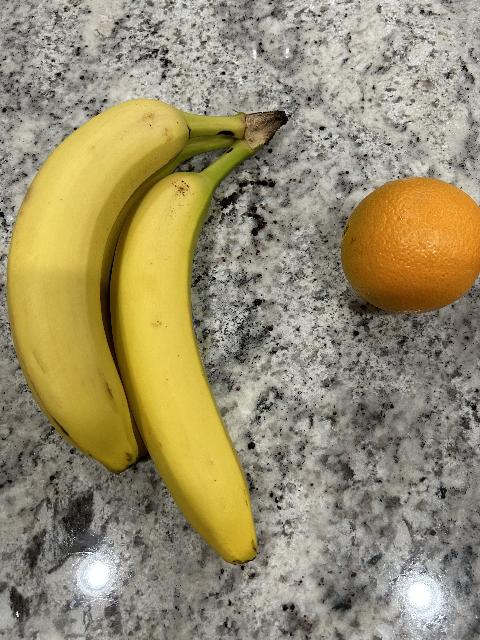Bananas: (6, 97, 288, 566)
Oranges: (340, 178, 480, 314)
